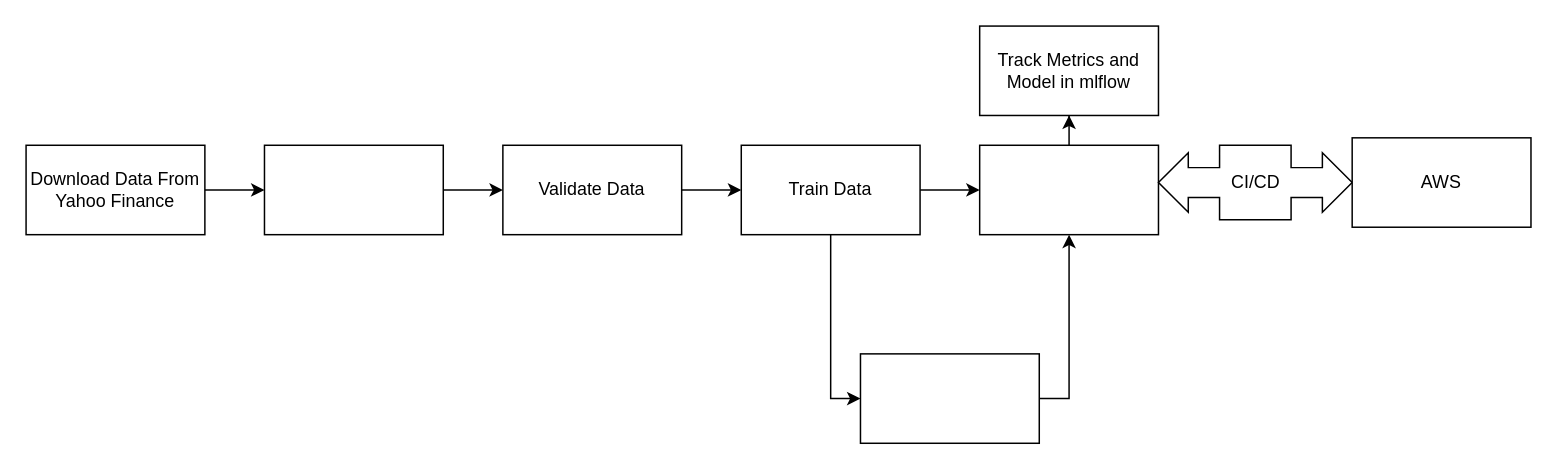
This 1557x469 diagram has some shape labels left out. Here are the shapes that lost their labels. From the top down, the centre of each, then its label:
At pixel 353 189: "Transform Data (EDA)".
At pixel 1068 189: "Make Prediction".
At pixel 949 397: "Schedule Task in daily Base in Airflow".
